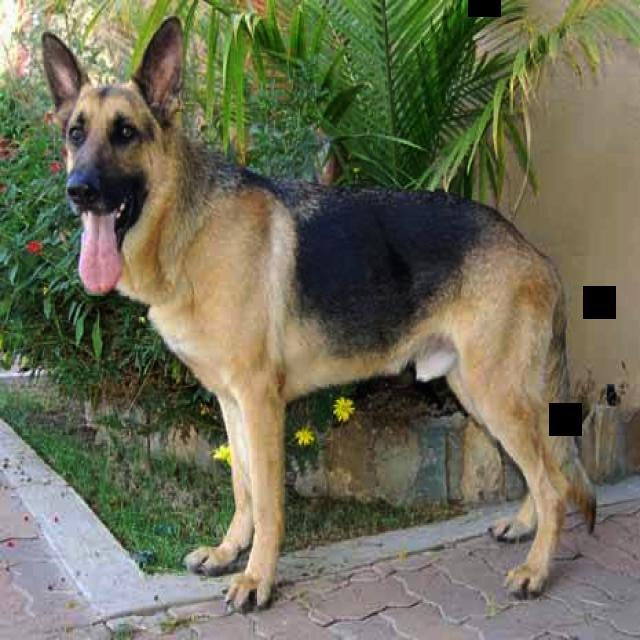adult_dog: (33, 14, 599, 617)
